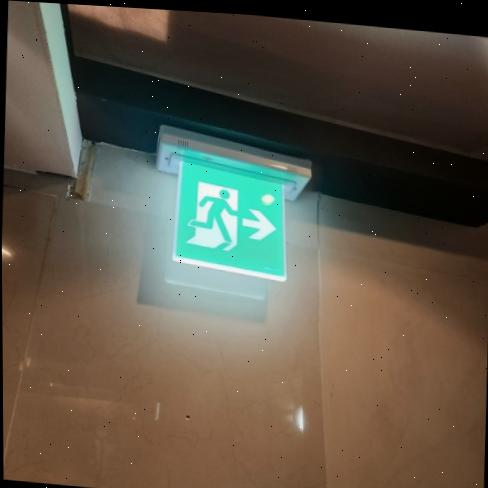emergency_exit: (171, 158, 289, 283)
